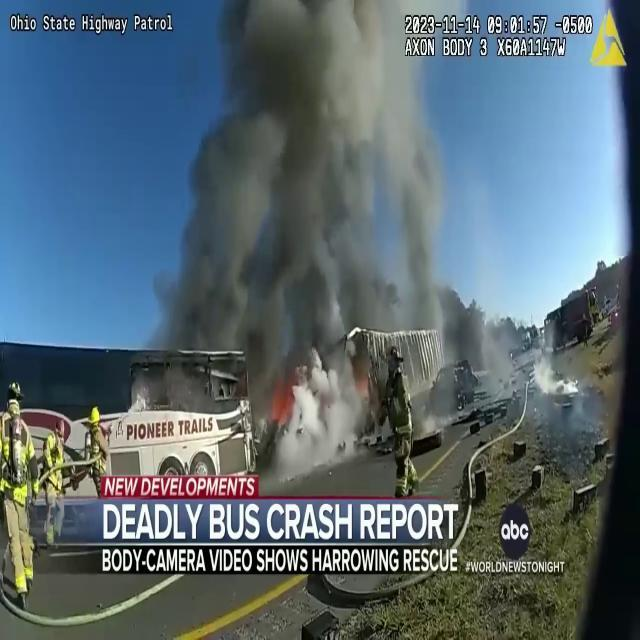Smoke: (163, 0, 433, 407)
